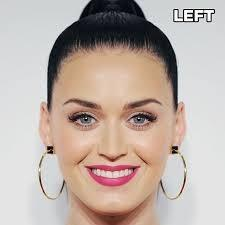No Mask: (26, 0, 198, 212)
